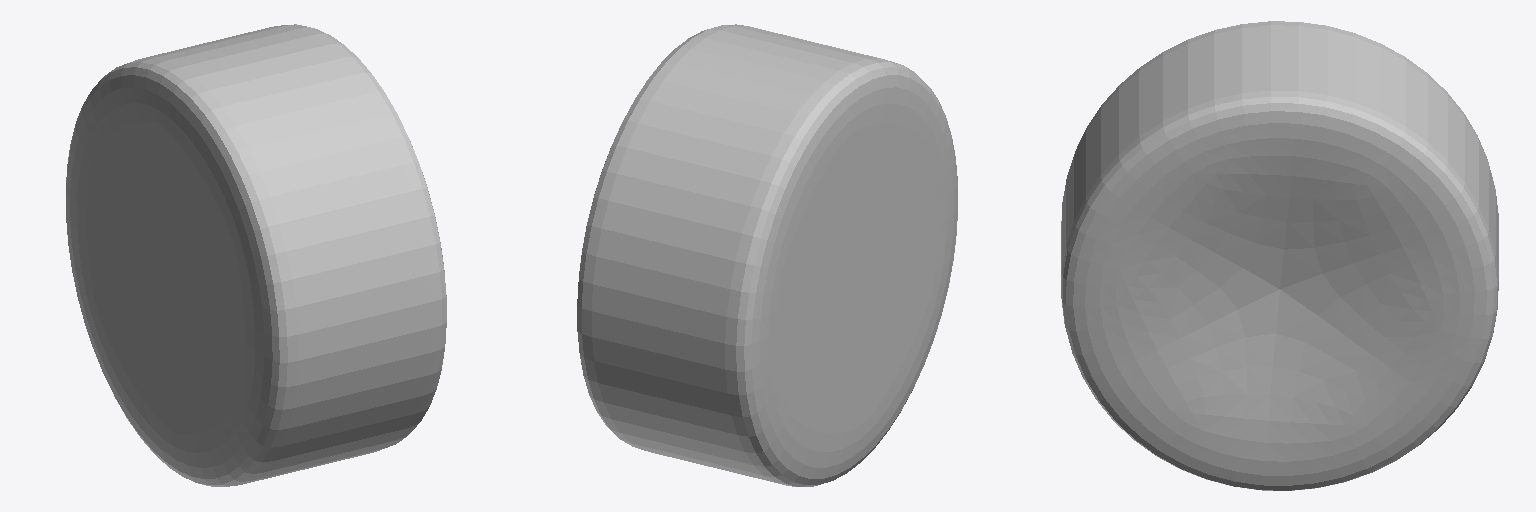
The model's file is llanta.obj.
3 views of the same model, side by side, from view 1: azimuth 30°, elevation 25°; view 2: azimuth 150°, elevation 25°; view 3: azimuth 270°, elevation 25° (orthographic).
Visible parts, largest first — view 1: 10604_slot_car_red_SG_v1_iterations-2.005; view 2: 10604_slot_car_red_SG_v1_iterations-2.005; view 3: 10604_slot_car_red_SG_v1_iterations-2.005.
Boxes of the visible parts, box(x1,y1,x2,y2) form: 10604_slot_car_red_SG_v1_iterations-2.005: box(66, 24, 446, 486); 10604_slot_car_red_SG_v1_iterations-2.005: box(577, 24, 957, 486); 10604_slot_car_red_SG_v1_iterations-2.005: box(1061, 21, 1498, 490).
Size of the model in its own units: 0.3758 by 0.7895 by 0.7894.